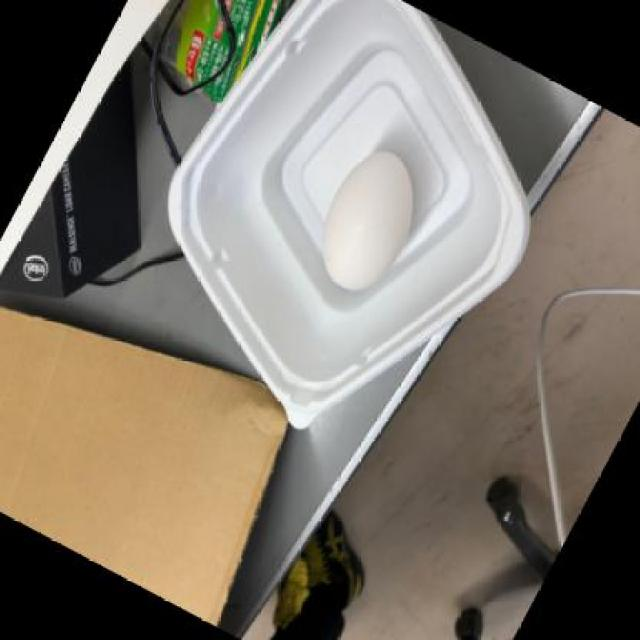egg: (320, 150, 420, 294)
